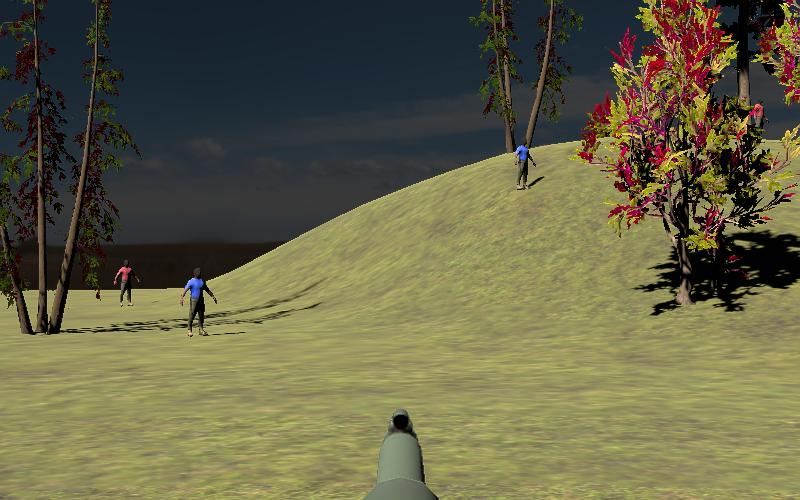Human: (181, 266, 217, 337), (114, 258, 140, 308), (514, 137, 535, 191)
